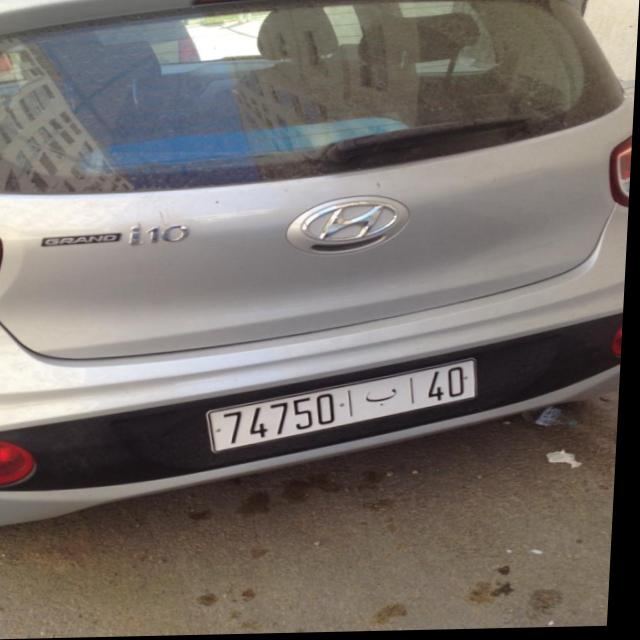License-Plate: (211, 362, 480, 452)
